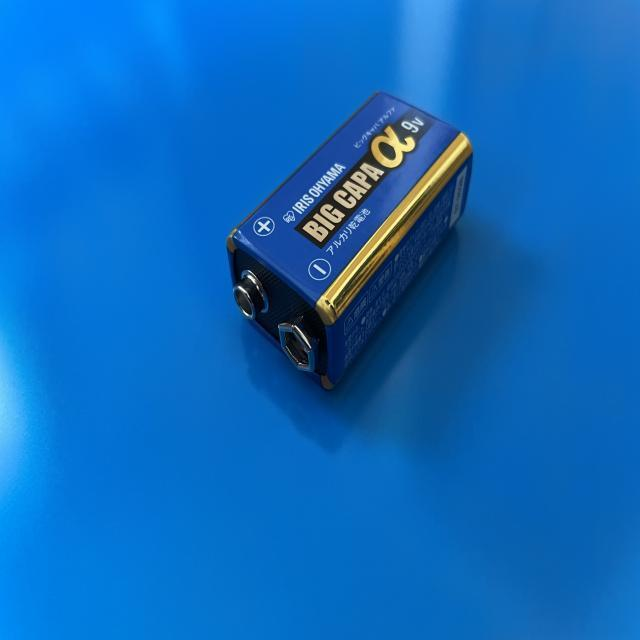9V: (228, 91, 476, 389)
